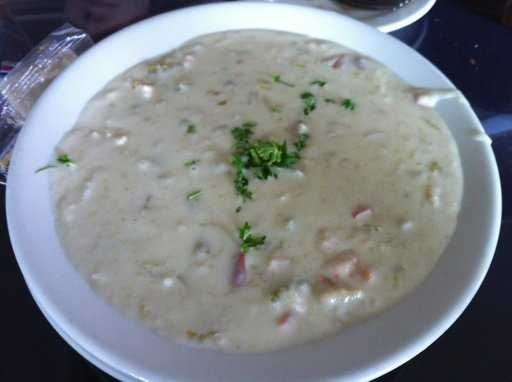soup: (18, 25, 467, 359)
